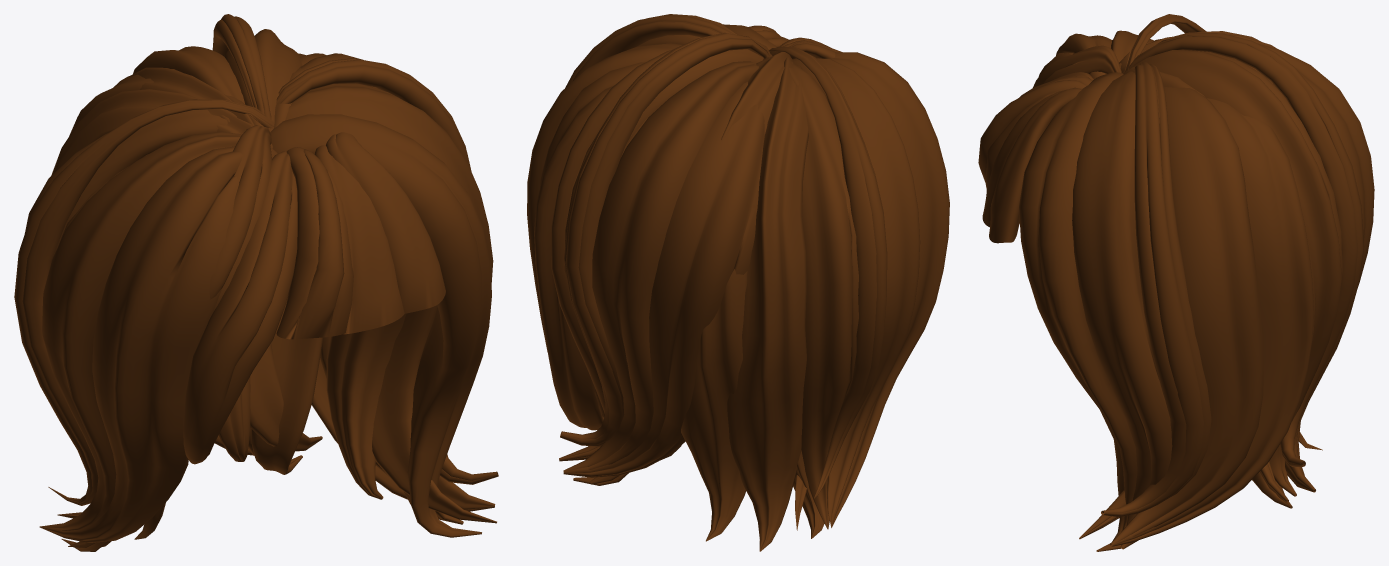
Rendered from hair_wolf.glb.
The picture shows the model from 3 angles, left to right: view 1: azimuth 30°, elevation 25°; view 2: azimuth 150°, elevation 25°; view 3: azimuth 270°, elevation 25°; orthographic projection. The views are drawn at different scales.
Visible parts, largest first — view 1: WolfHair; view 2: WolfHair; view 3: WolfHair.
Boxes of the visible parts, box(x1,y1,x2,y2) form: WolfHair: box(14, 14, 498, 551); WolfHair: box(527, 14, 949, 551); WolfHair: box(978, 14, 1374, 551).
Size of the model in its own units: 0.4646 by 0.5345 by 0.4265.
